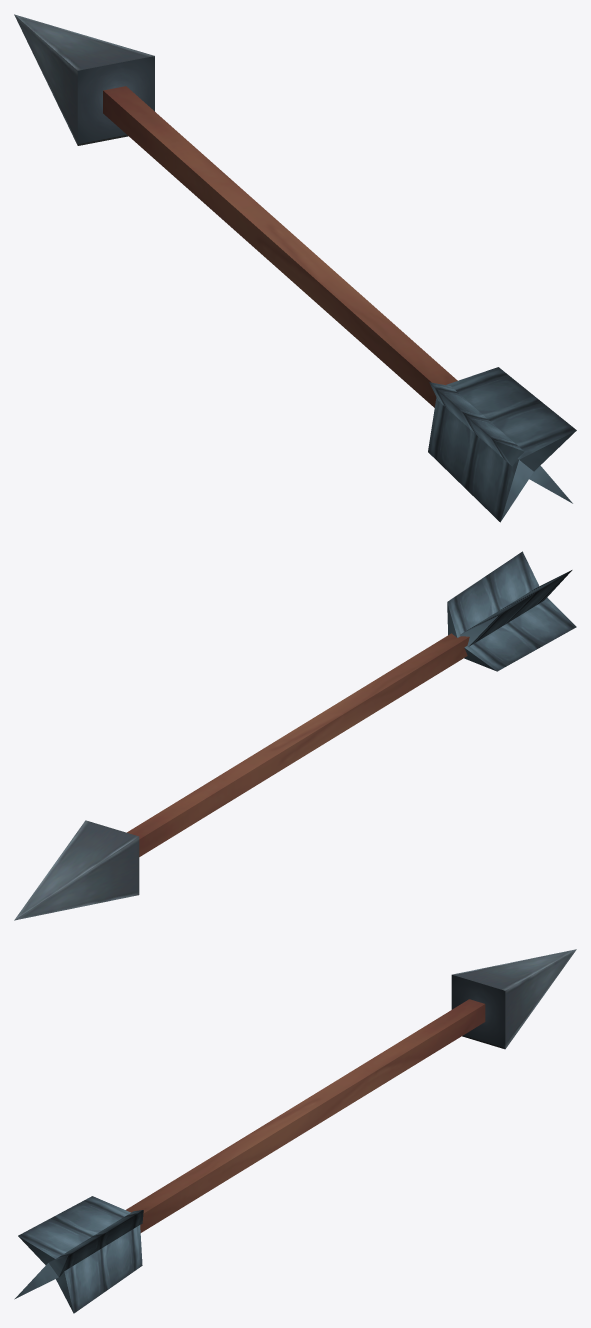
File: arrow.fbx
3 renders of one model, top to bottom at view 1: azimuth 30°, elevation 25°; view 2: azimuth 150°, elevation 25°; view 3: azimuth 330°, elevation 25°, orthographic. The views are drawn at different scales.
Visible parts, largest first — view 1: arrow:Mesh; view 2: arrow:Mesh; view 3: arrow:Mesh.
Part boxes in pixels (left/top/right/bottom): arrow:Mesh: left=14, top=14, right=576, bottom=522; arrow:Mesh: left=14, top=551, right=576, bottom=920; arrow:Mesh: left=14, top=949, right=576, bottom=1313.
Size of the model in its own units: 0.143 by 0.0754 by 1.05.
1 material, 1 textured.
